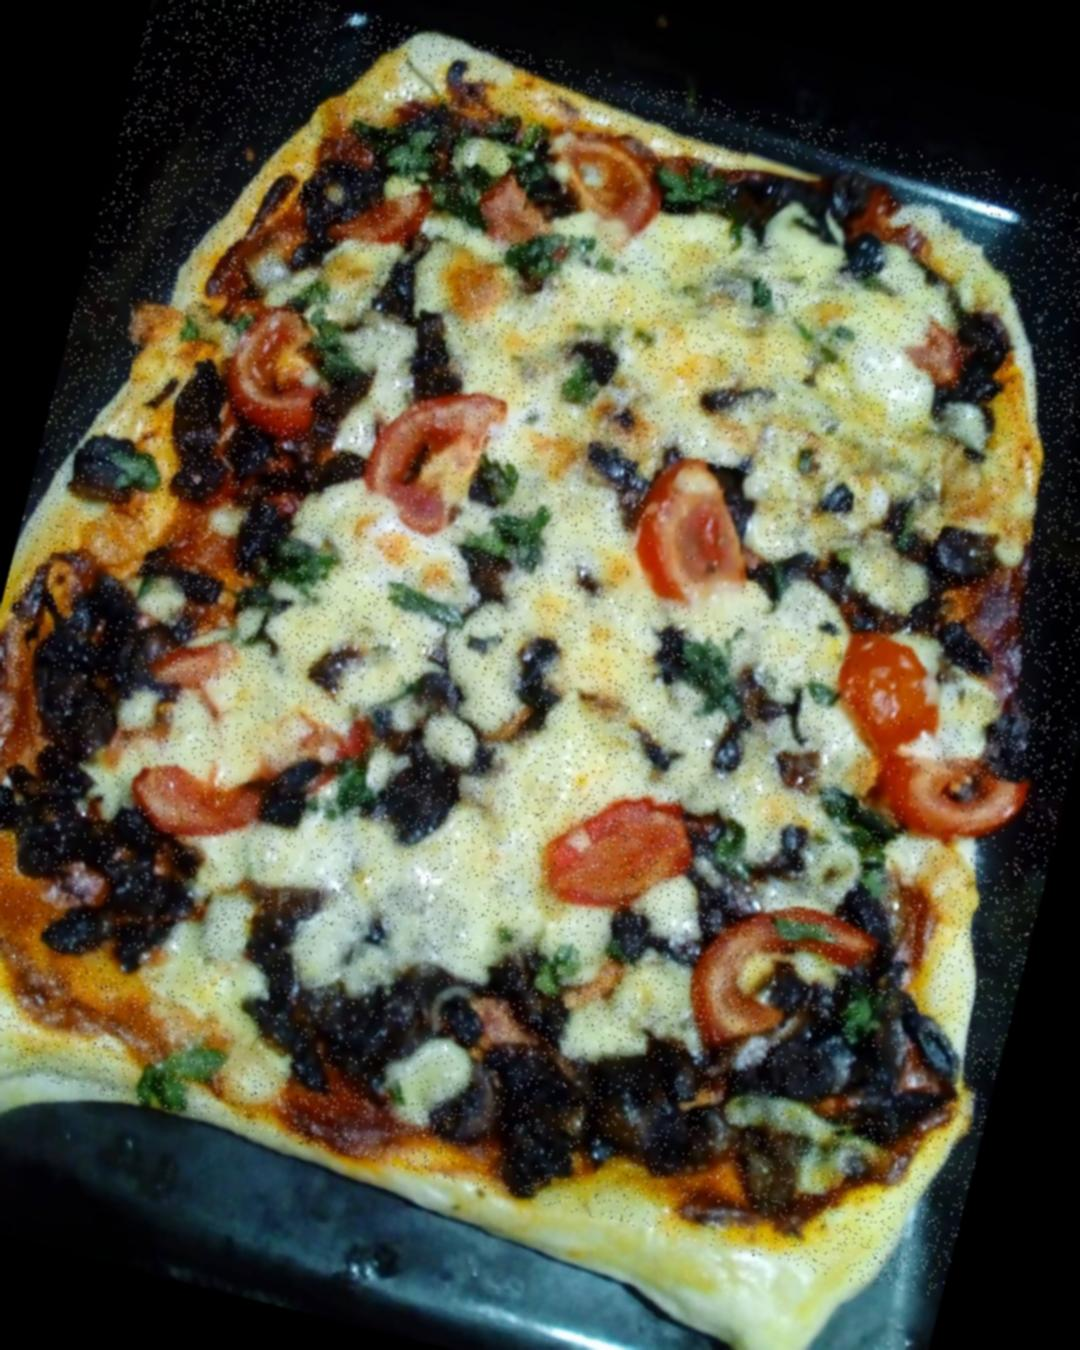Olives: (454, 1024, 806, 1253), (219, 908, 505, 1115), (0, 552, 180, 829), (0, 808, 212, 993), (753, 979, 970, 1136), (730, 148, 894, 264), (940, 304, 1035, 423), (291, 151, 388, 237), (930, 511, 1012, 592)
Pizza: (0, 0, 1080, 1303)
Tomatoes: (119, 670, 372, 884), (676, 886, 879, 1090), (349, 366, 509, 546), (532, 776, 708, 929), (625, 452, 770, 619), (855, 749, 1032, 865), (522, 118, 673, 246), (824, 629, 960, 764), (220, 301, 342, 441)
